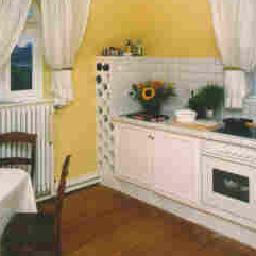Electrodomestico: (201, 137, 254, 232)
